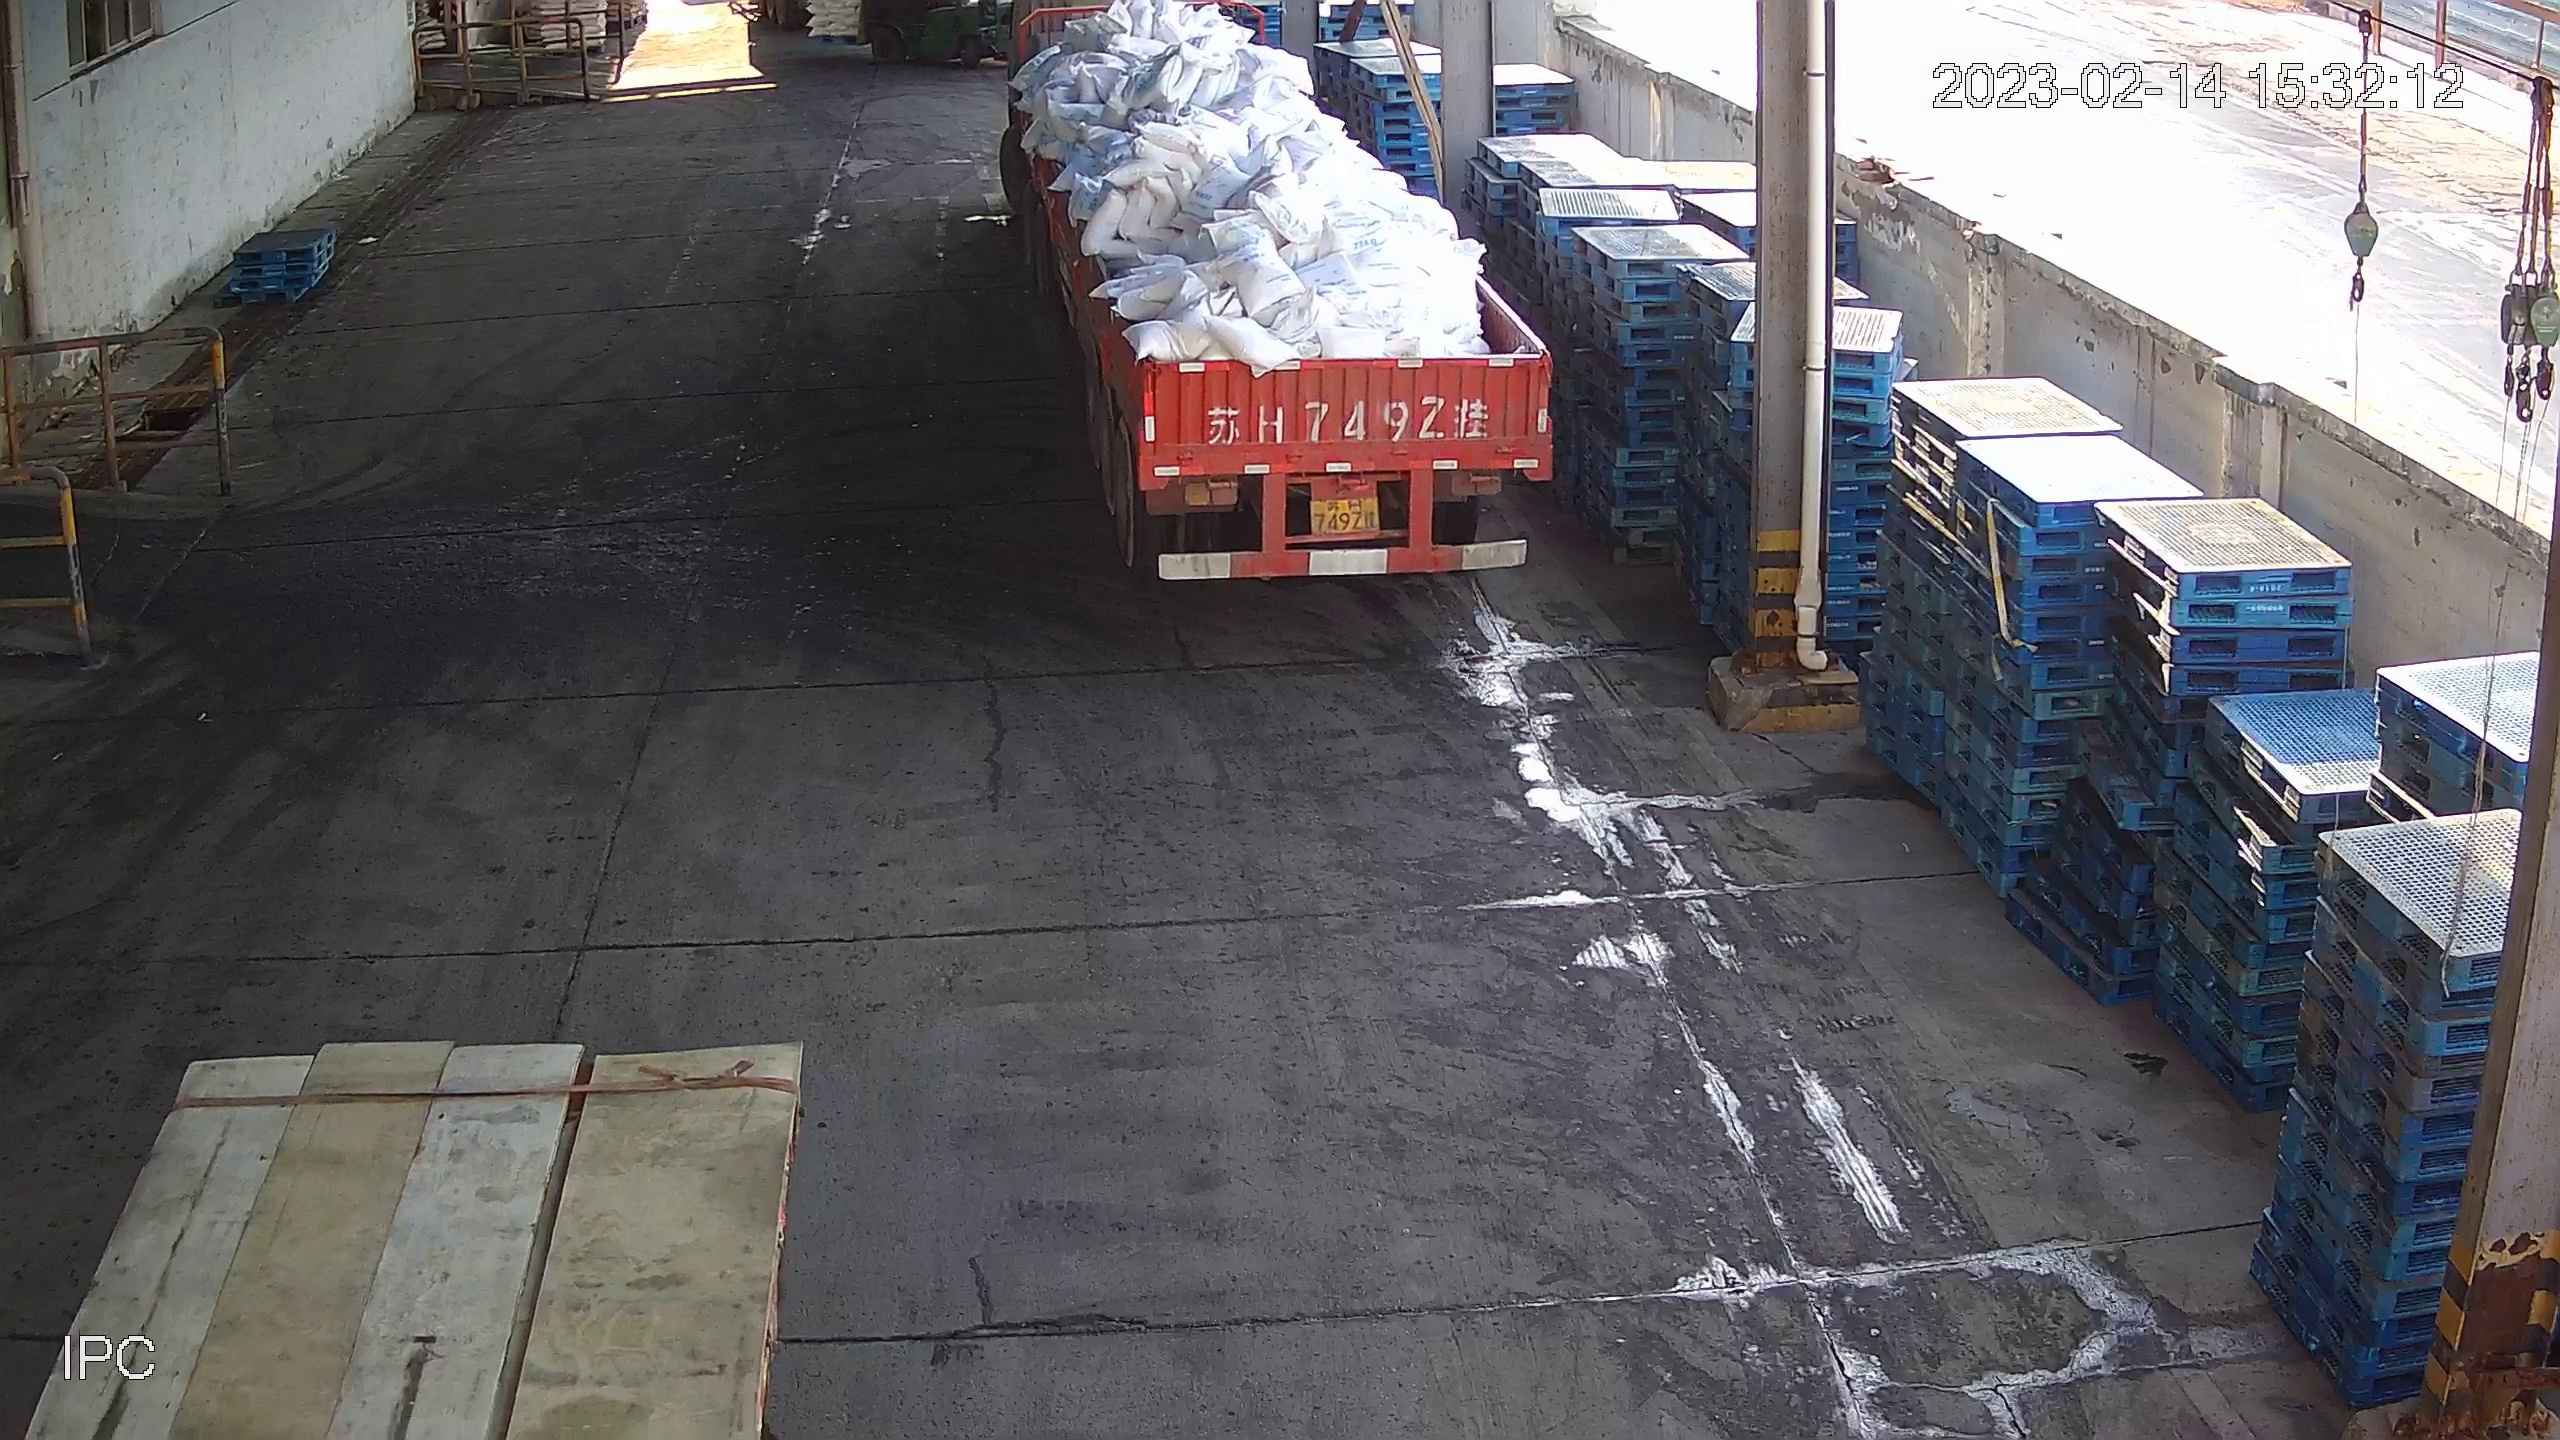truck: (1002, 2, 1553, 580)
